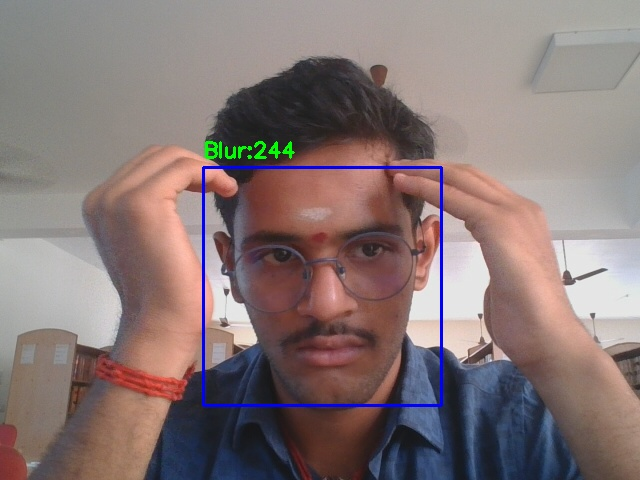real: (203, 167, 441, 405)
